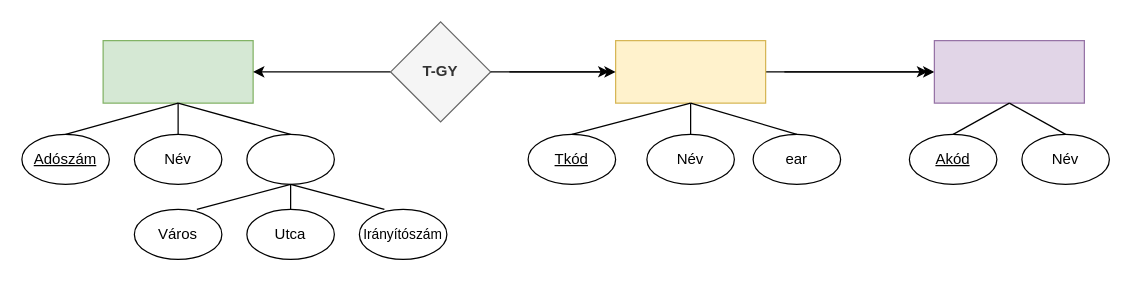
Some shapes in this 1131 by 281 pixel diagram are drawn without their labels. Here are the shapes that lost their labels. From the top down, the box of each, then its label:
(102, 39, 253, 103): Gyártók
(614, 39, 766, 103): Termékek
(933, 39, 1084, 103): Alkatrész
(246, 133, 334, 184): Telephely
